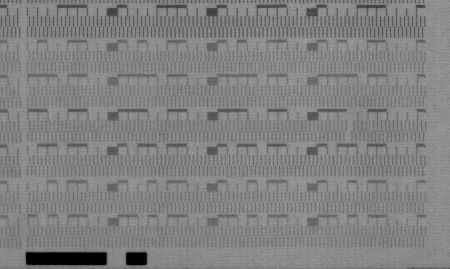Broken hole: (343, 121, 356, 143)
